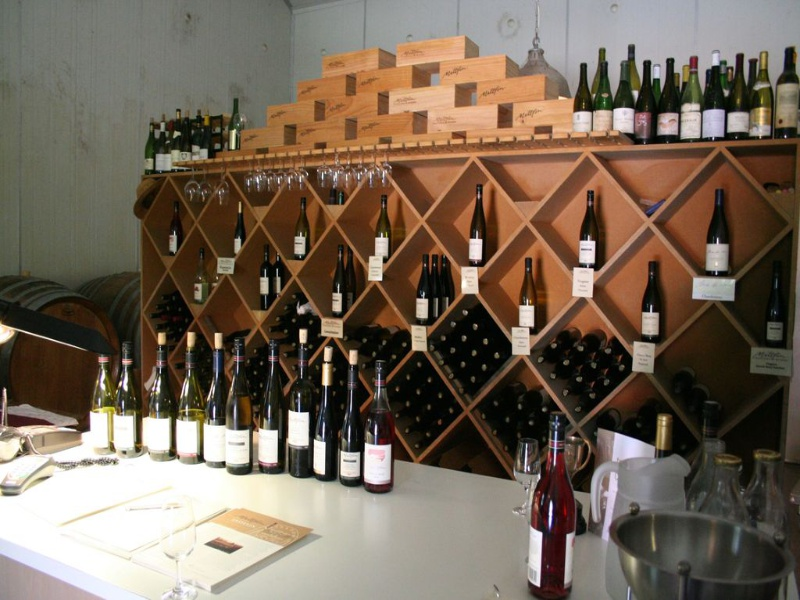wine: (85, 19, 793, 600), (72, 320, 411, 511), (525, 407, 579, 600)
